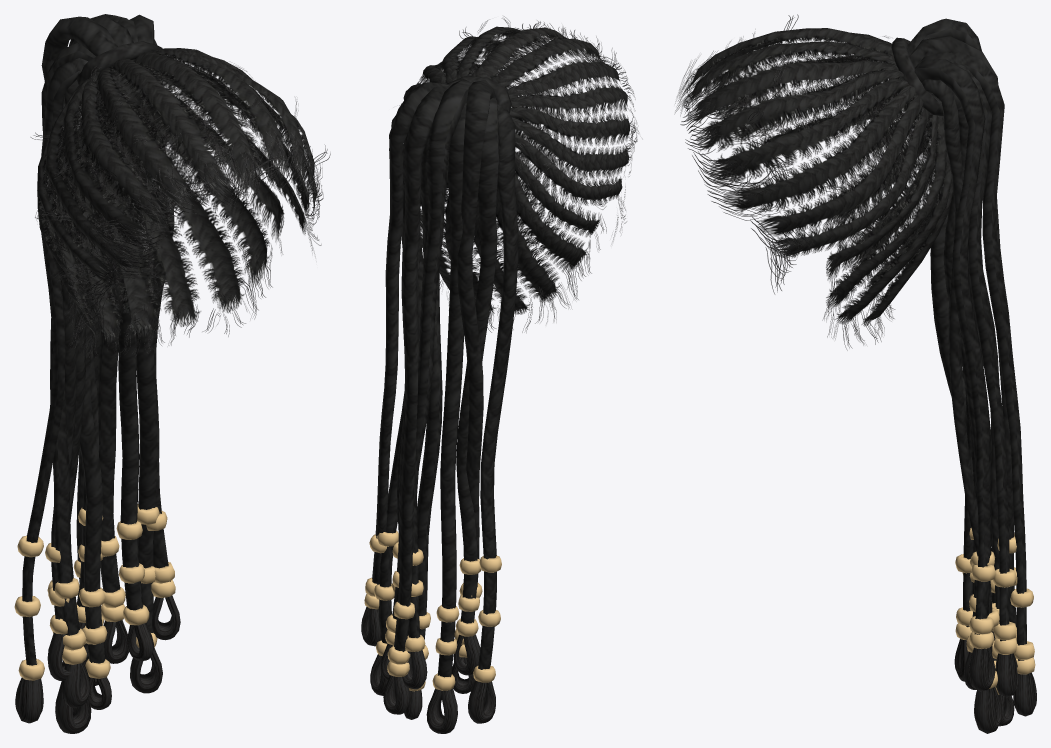
Rendered from cornrow_braids_hairstyle.glb.
3 renders of one model, left to right at view 1: azimuth 30°, elevation 25°; view 2: azimuth 150°, elevation 25°; view 3: azimuth 270°, elevation 25°, orthographic. The views are drawn at different scales.
Visible parts, largest first — view 1: Object_3, Object_2; view 2: Object_3, Object_2; view 3: Object_3, Object_2.
Boxes of the visible parts, x1,y1,x2,y2 form: Object_3: (15,14,330,733); Object_2: (14,504,175,680); Object_3: (361,16,642,733); Object_2: (364,530,501,691); Object_3: (675,14,1036,733); Object_2: (955,528,1035,694).
Bounding box in the file's own units: 0.7892 × 2.09 × 0.9885.
Materials: 2 (1 with a texture image).
